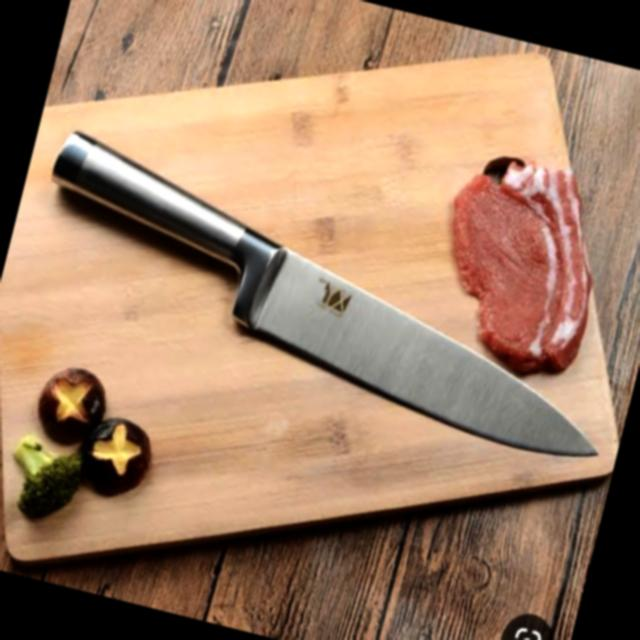knife: (9, 122, 640, 472)
